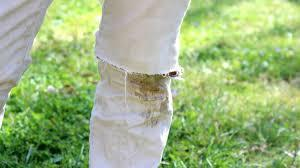earth: (135, 72, 167, 127)
